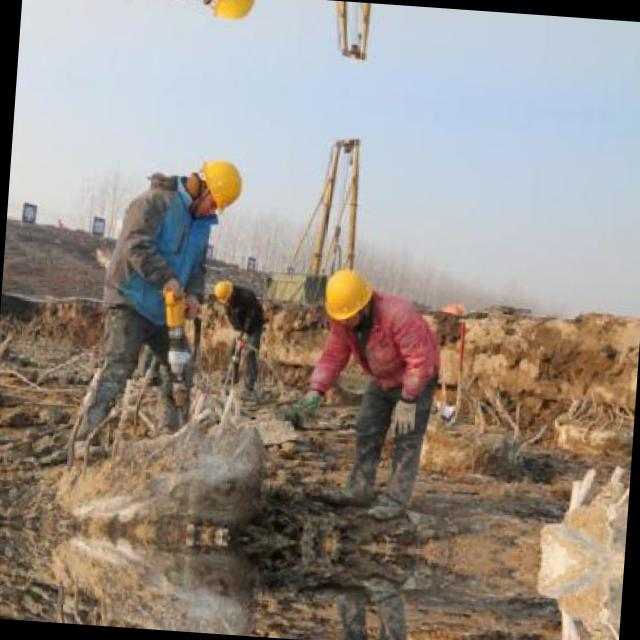helmet: (318, 260, 378, 336), (186, 148, 252, 215), (199, 0, 264, 29), (210, 274, 240, 304)
